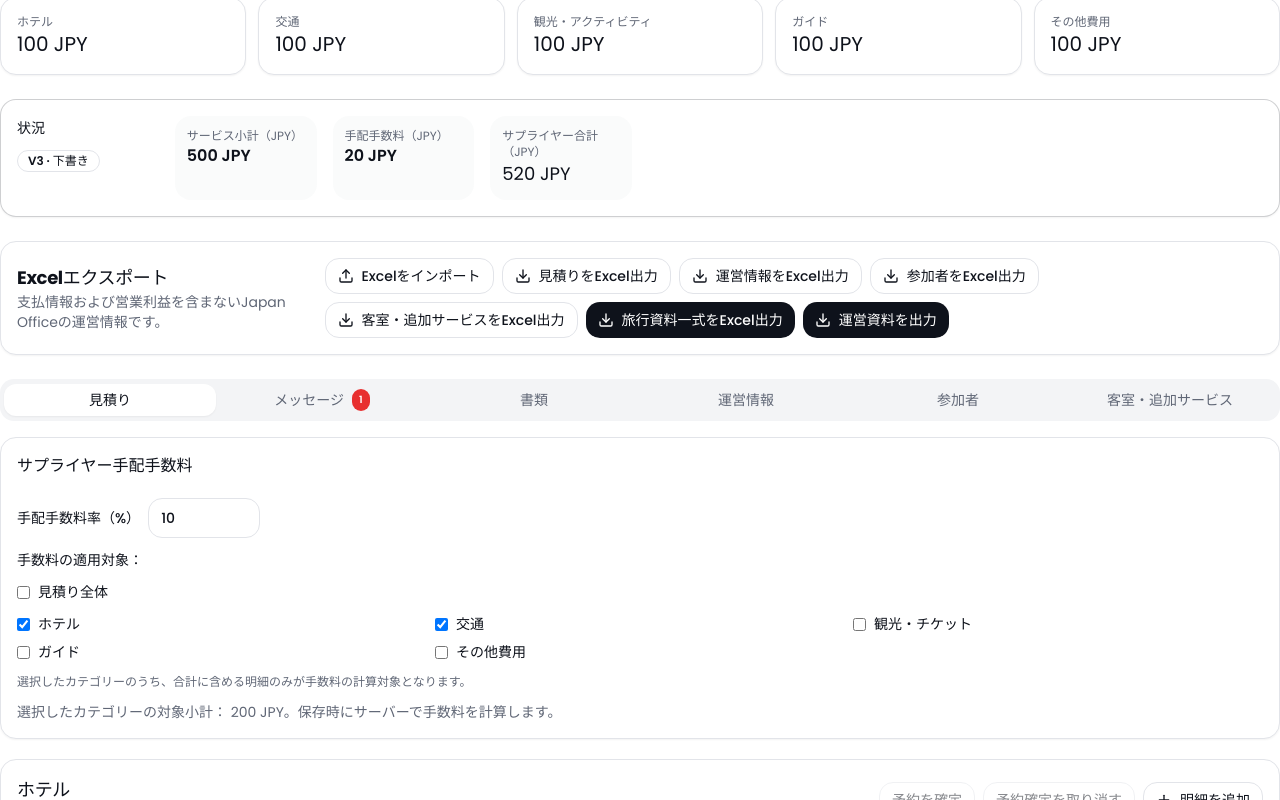
Test case: complete supplier portal presentation › renders all quote categories and handling in ja without translating supplier data
The width and height of the screenshot is (1280, 800).
(page scrolled)
Expected: the number field named "サプライヤー手配手数料率" holds "10", [148,498,260,538]
Press the mouse on the tab "メッセージ 1" at (322, 400), box [216,383,428,417]
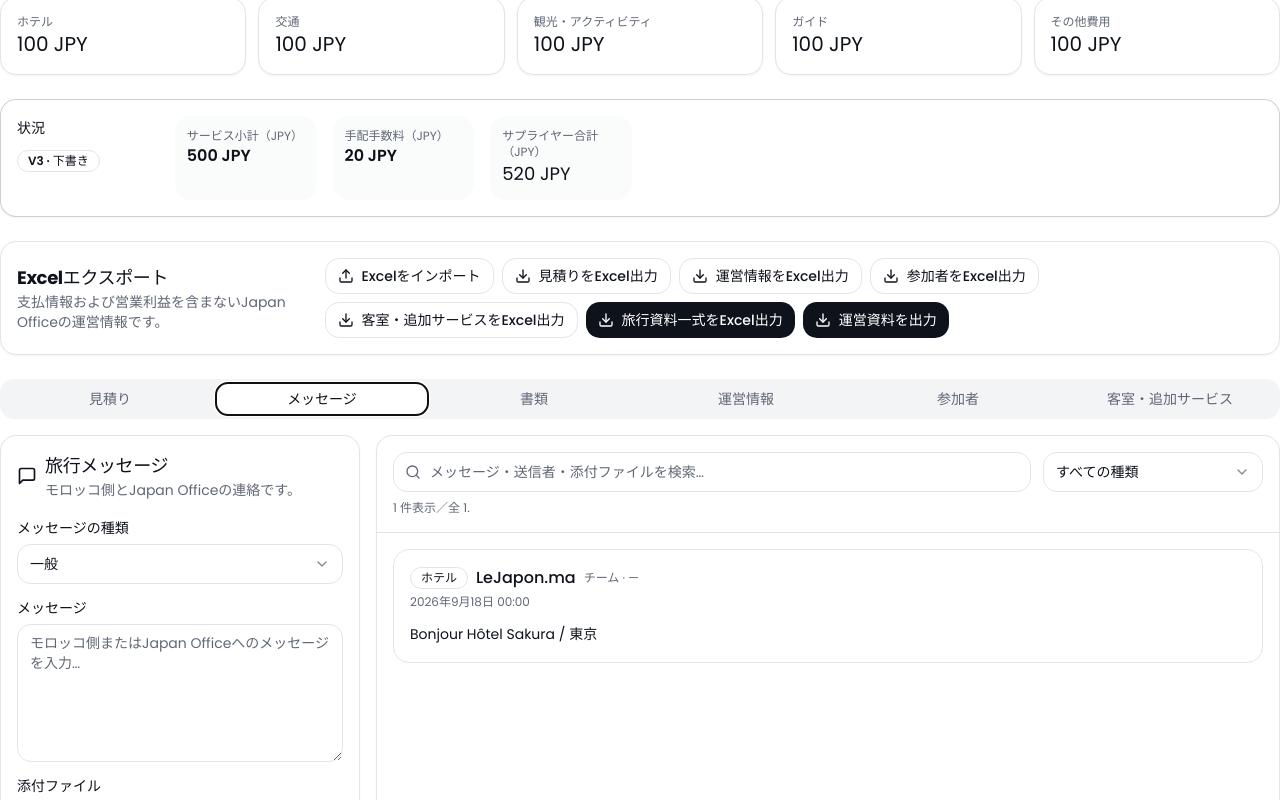
Now the text "Bonjour Hôtel Sakura / 東京" is shown, box [410,624,597,644]
Press the mouse on the tab "書類" at (534, 399), box [428,383,640,415]
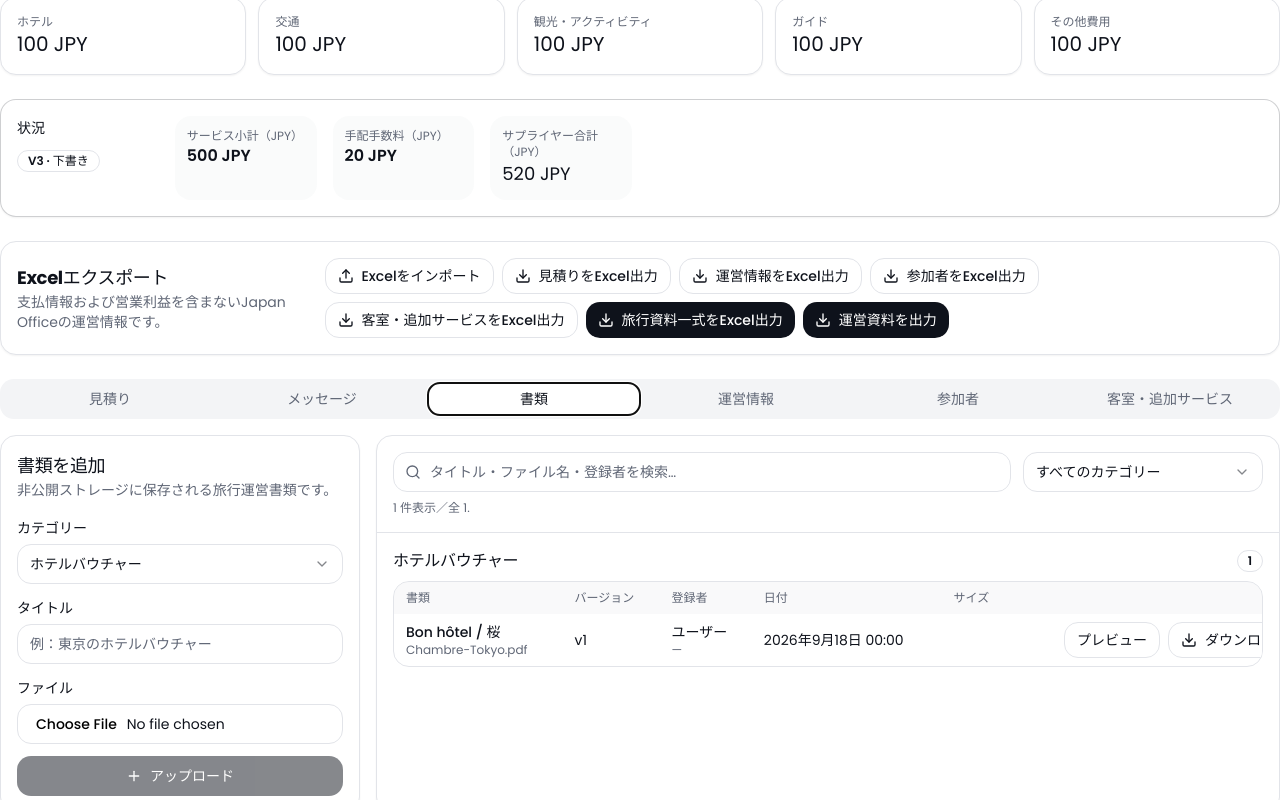
Now the text "Bon hôtel / 桜" is shown, box [406,622,500,642]
Now the button "アップロード" is shown, box [17,756,343,796]
Press the mouse on the tab "運営情報" at (746, 399), box [640,383,852,415]
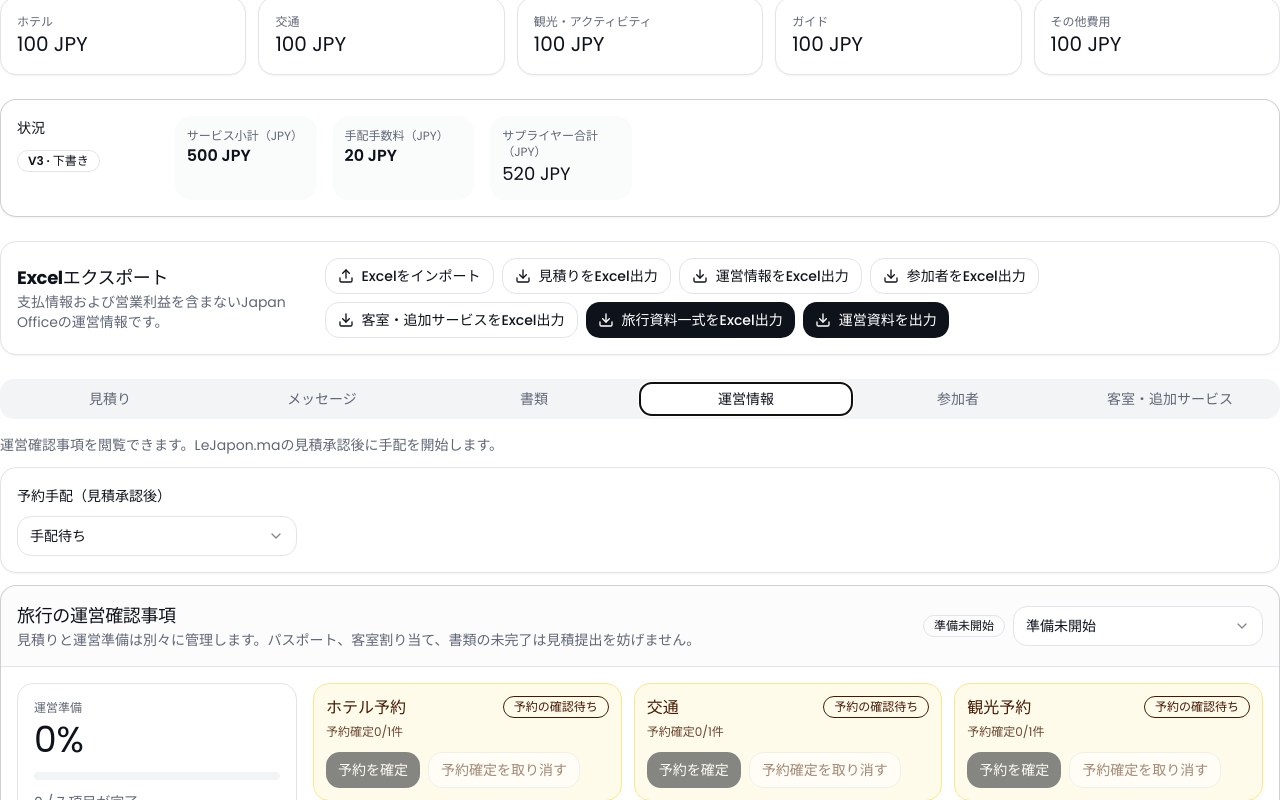
Now the 1st text "準備未開始" is shown, box [923,615,1005,637]
Now the text "手配待ち" is shown, box [30,526,86,546]
